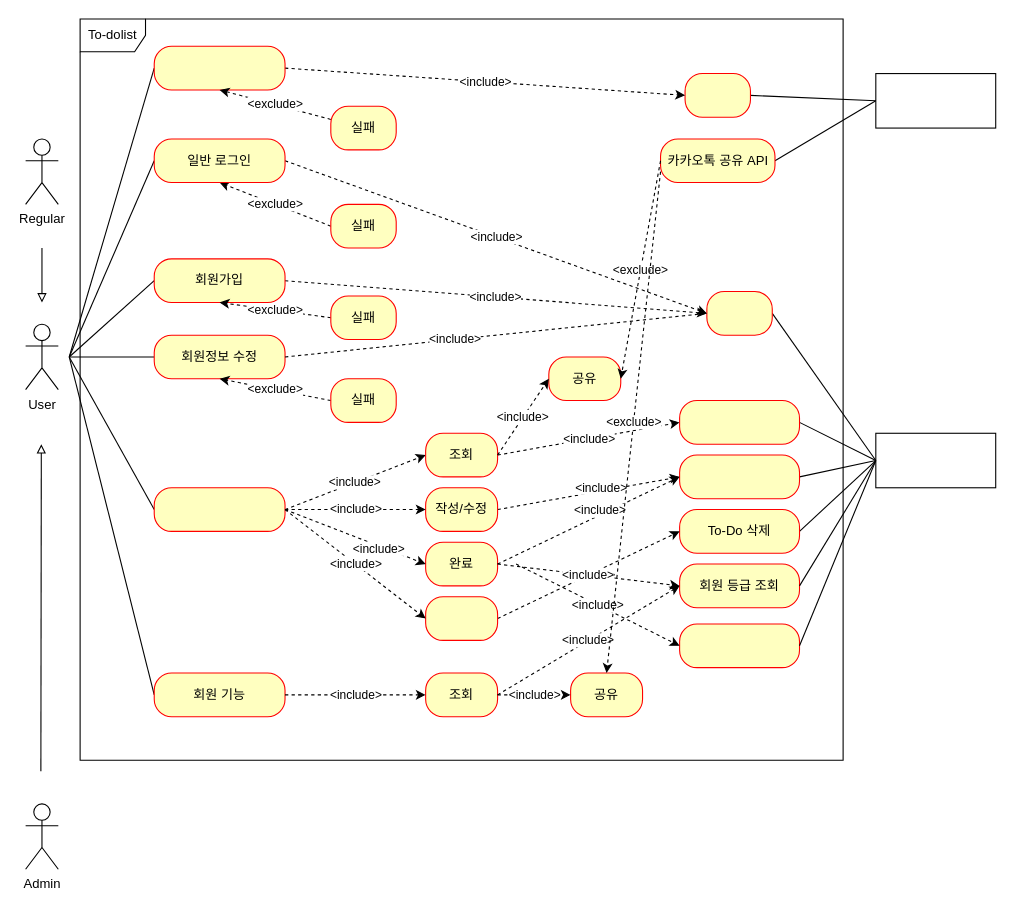
Some shapes in this 1015 by 911 pixel diagram are drawn without their labels. Here are the shapes that lost their labels. From the top down, the centre of each, then its label:
At (x=219, y=67): "소셜 로그인".
At (x=717, y=94): "소셜 인증".
At (x=935, y=100): "Kakao API".
At (x=739, y=312): "인증".
At (x=739, y=421): "To-Do 조회".
At (x=739, y=476): "To-Do 생성/수정".
At (x=935, y=460): "DB".
At (x=219, y=509): "To-Do 기능".
At (x=461, y=618): "삭제".
At (x=739, y=645): "회원 등급 수정".
